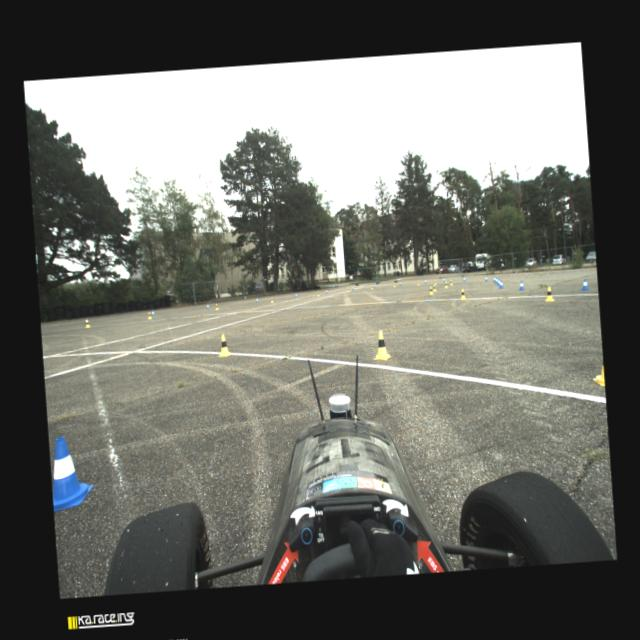blue_cone: (49, 434, 94, 511), (580, 278, 588, 290), (518, 280, 524, 290), (498, 279, 503, 288), (84, 318, 88, 327), (324, 288, 328, 294), (497, 278, 500, 286), (151, 310, 154, 316), (495, 276, 497, 284), (484, 276, 487, 280), (442, 278, 445, 282), (492, 276, 494, 282), (463, 276, 465, 281), (256, 297, 258, 302), (294, 292, 296, 297), (424, 278, 426, 283), (206, 304, 208, 308), (352, 286, 354, 290), (372, 283, 374, 287), (399, 282, 401, 284)
yellow_cone: (372, 329, 392, 361), (216, 334, 231, 357), (544, 286, 554, 301), (459, 288, 466, 300), (84, 320, 90, 328), (428, 286, 433, 294), (443, 280, 448, 288), (432, 284, 436, 292), (148, 312, 152, 320), (270, 296, 273, 303), (449, 280, 452, 286), (316, 290, 319, 296), (346, 287, 349, 292), (416, 280, 419, 284), (216, 303, 218, 309), (392, 282, 394, 287), (371, 284, 373, 289), (434, 280, 436, 284)
